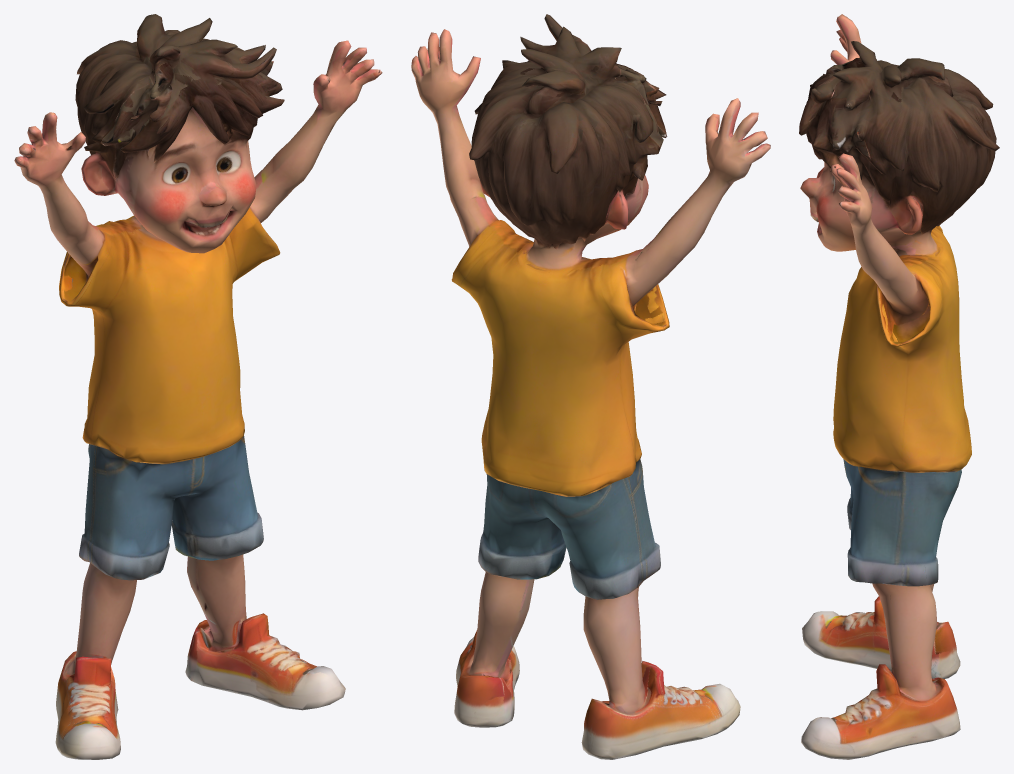
Rendered from a_playful_boy_with_an_0521055401_texture.glb.
3 renders of one model, left to right at view 1: azimuth 30°, elevation 25°; view 2: azimuth 150°, elevation 25°; view 3: azimuth 270°, elevation 25°, orthographic. The views are drawn at different scales.
Bounding box in the file's own units: 1.12 × 1.99 × 0.5613.
Materials: 1 (1 with a texture image).
